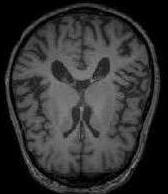Normal_Brain: (1, 1, 168, 194)
